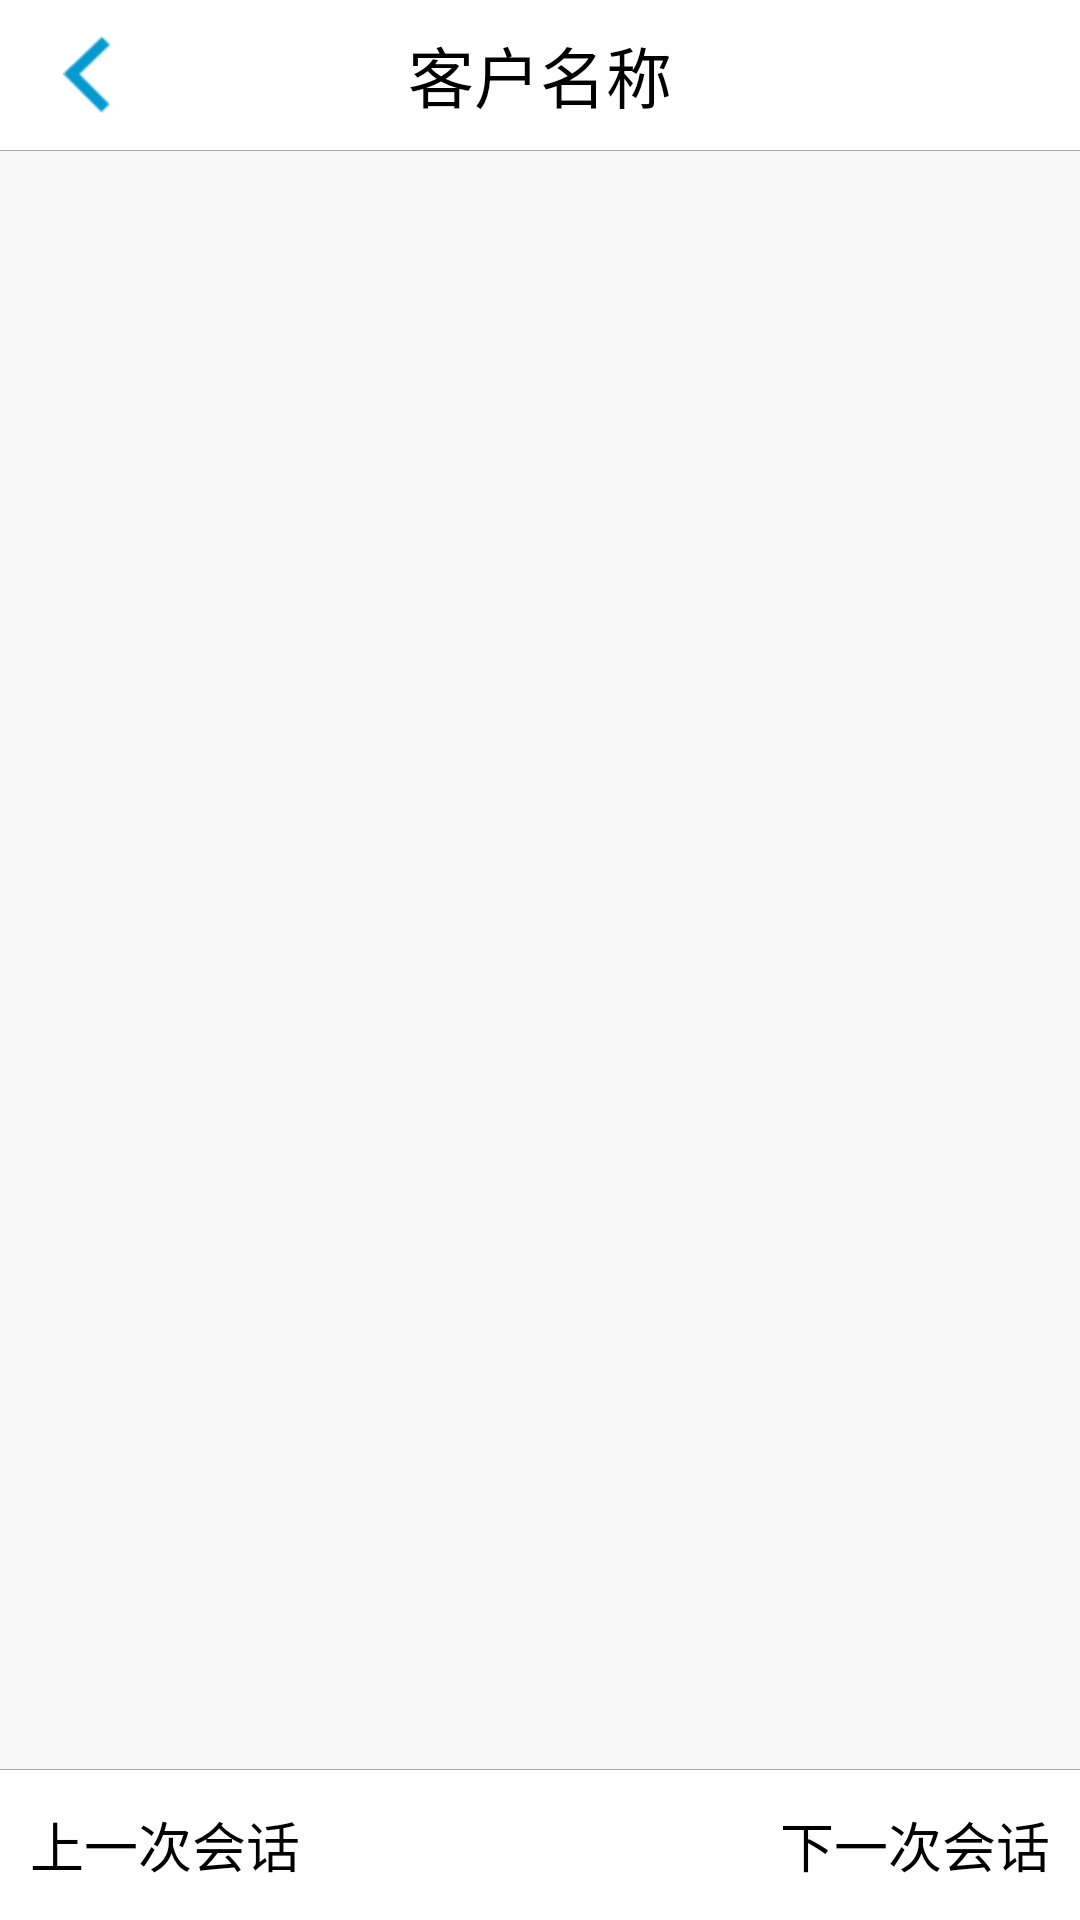

Icon click points for this 1080w x 1920h phone screenshot, format (x,y):
sdk finish: (87,74)
